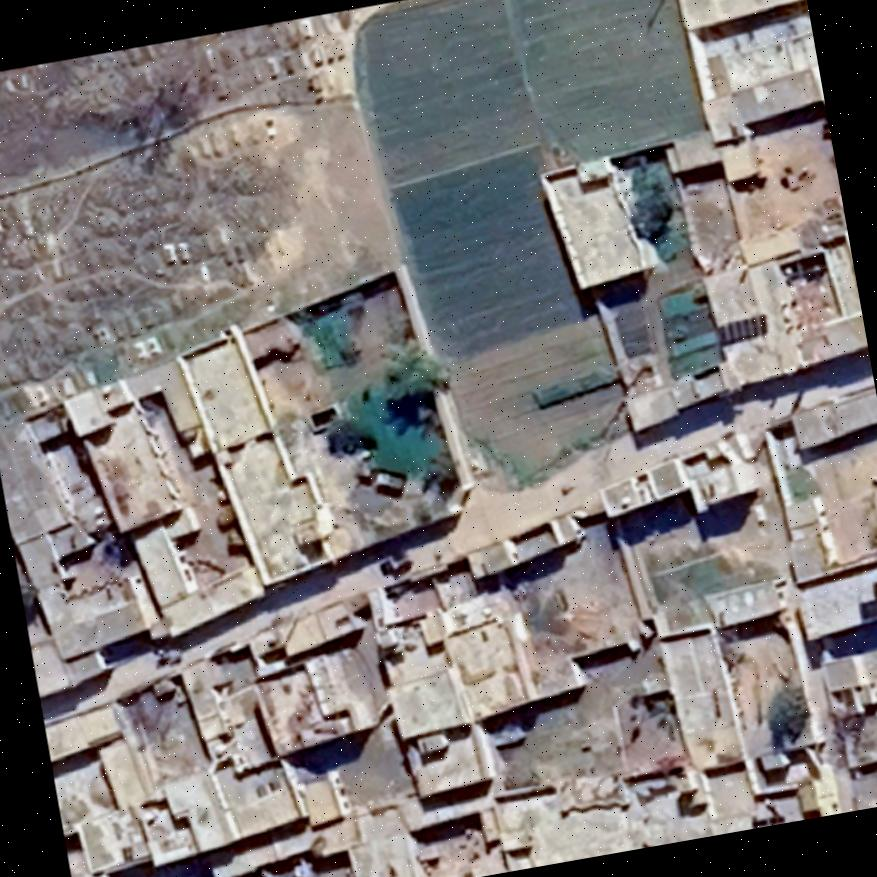Solarpanel: (712, 309, 775, 352), (775, 248, 834, 292), (852, 583, 877, 625)
